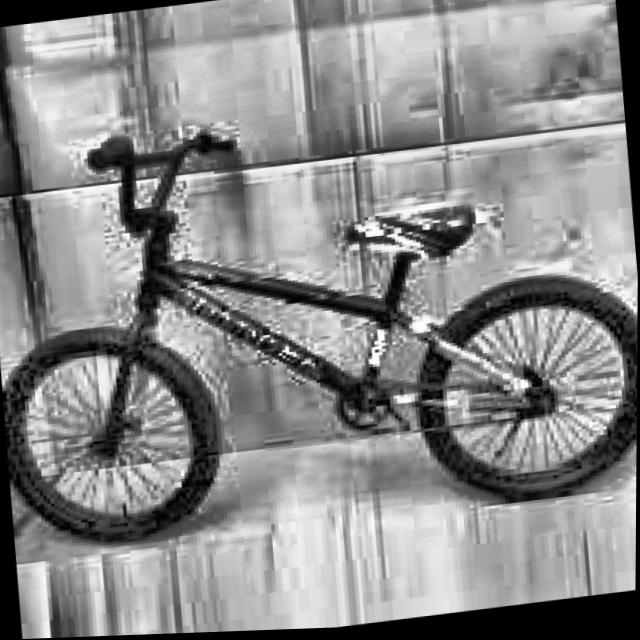motorcycle: (0, 75, 639, 570)
